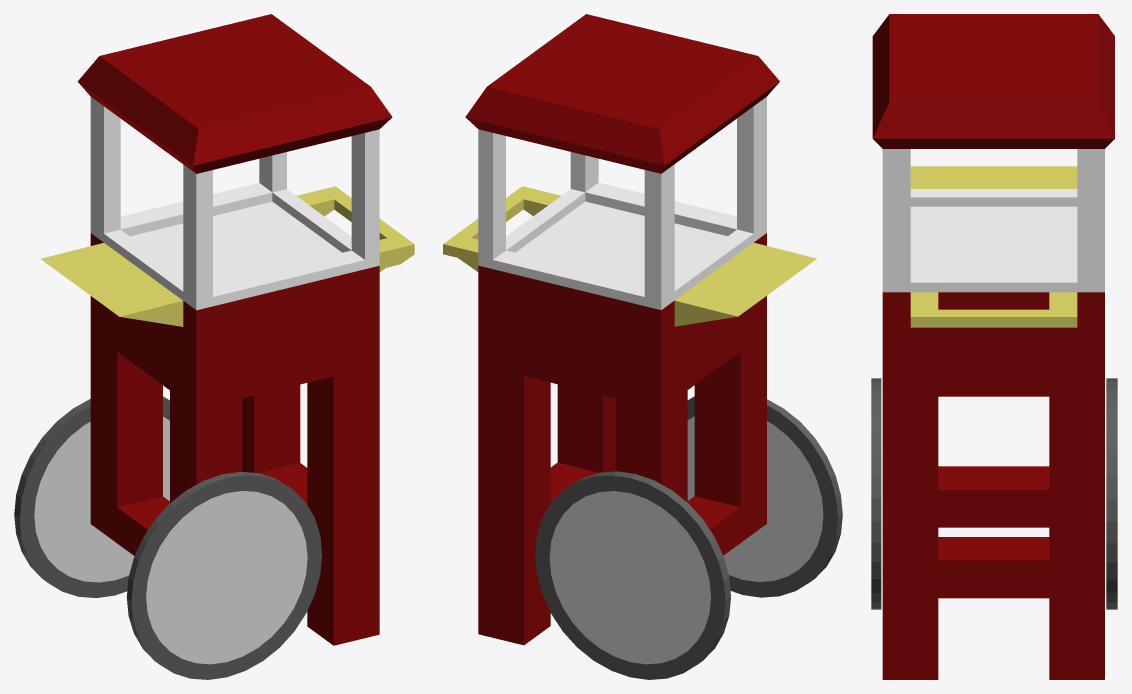
File: PopcornCartVersion1.fbx
3 views of the same model, side by side, from view 1: azimuth 30°, elevation 25°; view 2: azimuth 150°, elevation 25°; view 3: azimuth 270°, elevation 25° (orthographic). The views are drawn at different scales.
Parts seen in each view (by area): view 1: Cube, Wheels; view 2: Cube, Wheels; view 3: Cube, Wheels.
Part boxes in pixels (box(x1,y1,x2,y2)): Cube: box(40, 14, 414, 645); Wheels: box(14, 396, 322, 679); Cube: box(443, 14, 816, 645); Wheels: box(535, 396, 842, 679); Cube: box(872, 14, 1114, 679); Wheels: box(871, 378, 1117, 609).
Size of the model in its own units: 330 by 571 by 222.
